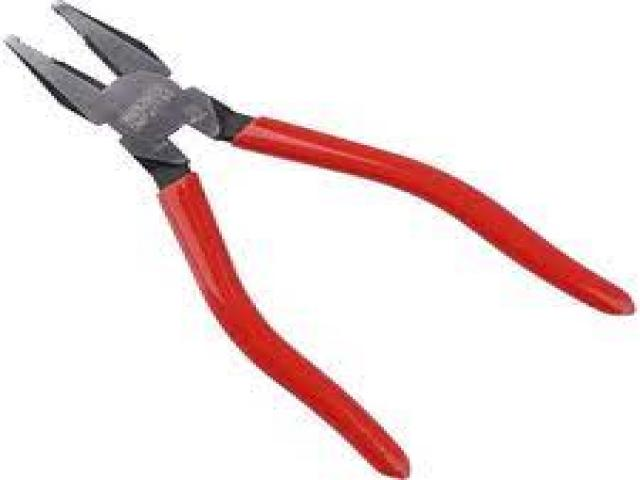Pliers: (5, 3, 638, 479)
